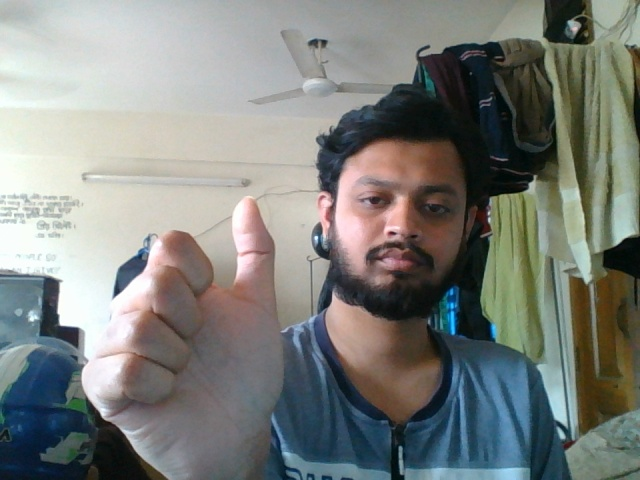dho: (68, 185, 304, 462)
